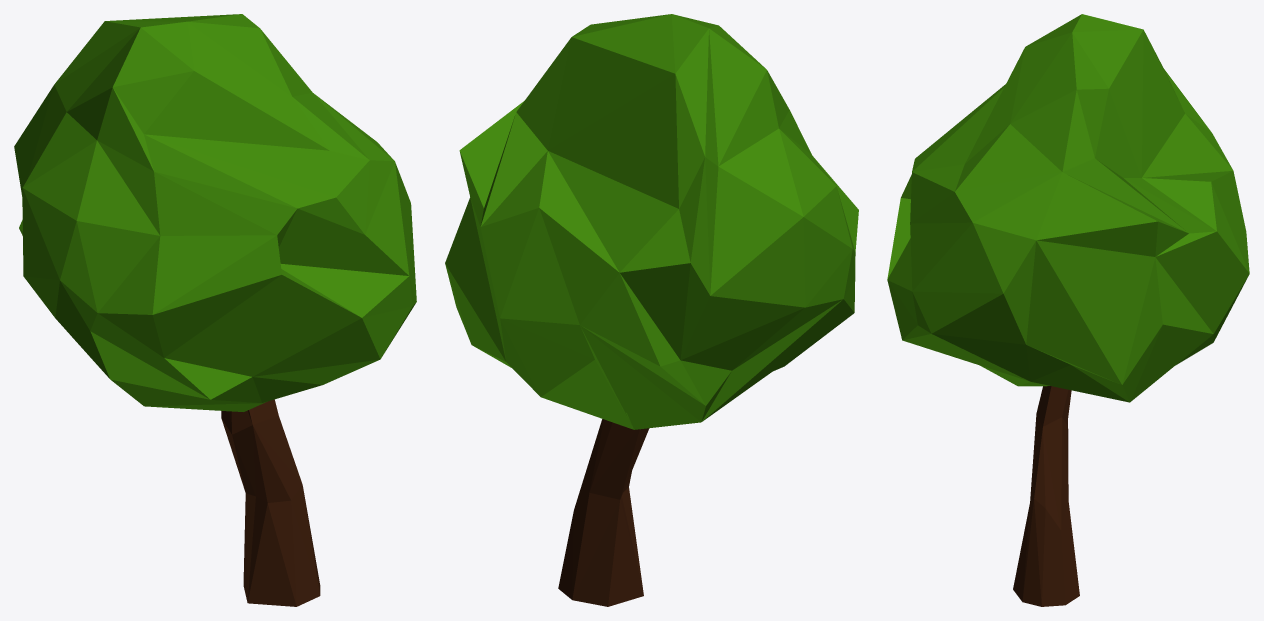
File: tree middle.fbx
3 renders of one model, left to right at view 1: azimuth 30°, elevation 25°; view 2: azimuth 150°, elevation 25°; view 3: azimuth 270°, elevation 25°, orthographic. The views are drawn at different scales.
Parts seen in each view (by area): view 1: tree top 001, tree bottom001; view 2: tree top 001, tree bottom001; view 3: tree top 001, tree bottom001.
Part boxes in pixels (left/top/right/bottom): tree top 001: left=14, top=14, right=416, bottom=411; tree bottom001: left=221, top=399, right=320, bottom=606; tree top 001: left=445, top=14, right=858, bottom=429; tree bottom001: left=558, top=419, right=649, bottom=606; tree top 001: left=887, top=14, right=1249, bottom=402; tree bottom001: left=1013, top=386, right=1079, bottom=606.
Size of the model in its own units: 16.3 by 26.89 by 16.86.
